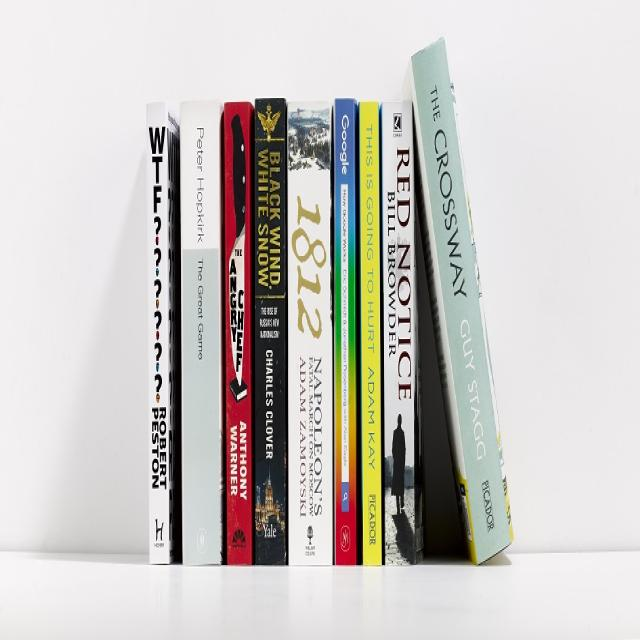book-spines: (411, 36, 513, 566), (285, 100, 334, 566), (179, 100, 222, 566), (253, 97, 286, 566), (382, 101, 414, 566), (224, 100, 252, 567), (145, 101, 169, 565), (358, 99, 381, 566), (334, 99, 357, 566)
